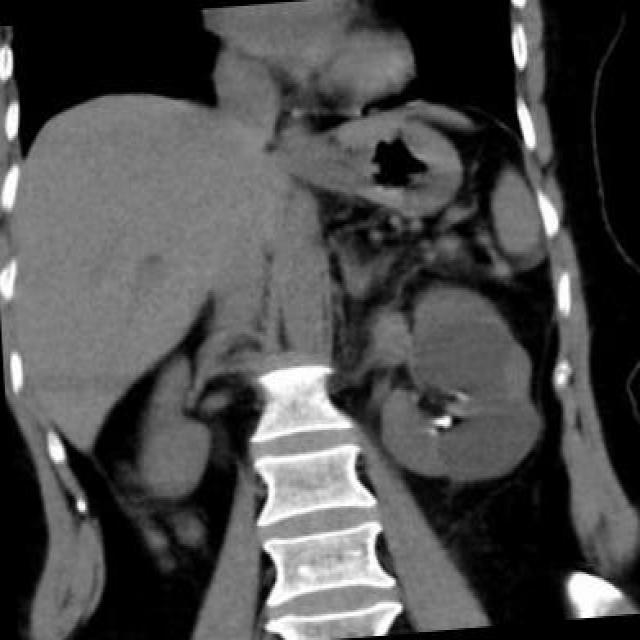Tas_Var: (429, 412, 457, 430)
